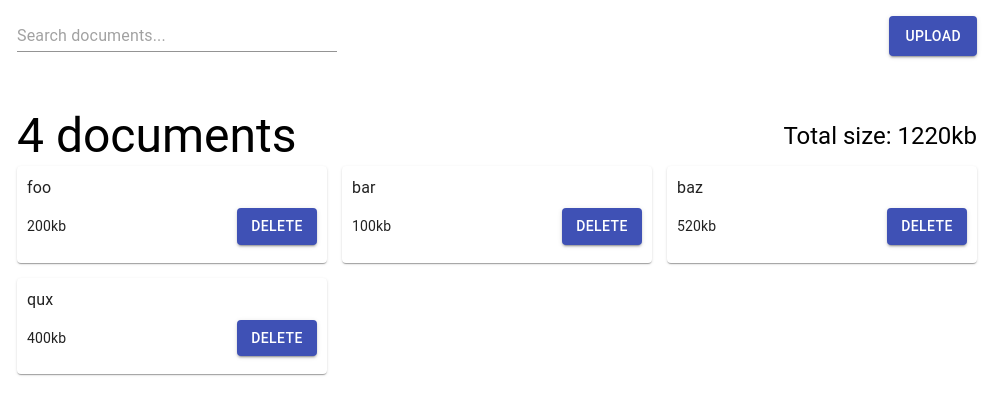
Test: Documents Page › should handle a 500 from the server
This screenshot has width=995, height=408.
Click the button with test id "DocumentCard-deleteButton-4" at (277, 339), box [237,320,317,357]
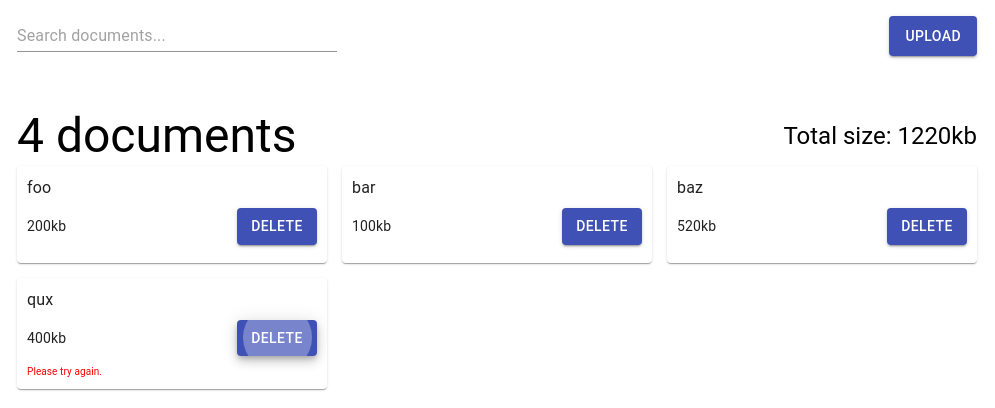
Check: the text with test id "DocumentCard-error-4" reads "Please try again.", box [27,366,102,377]
